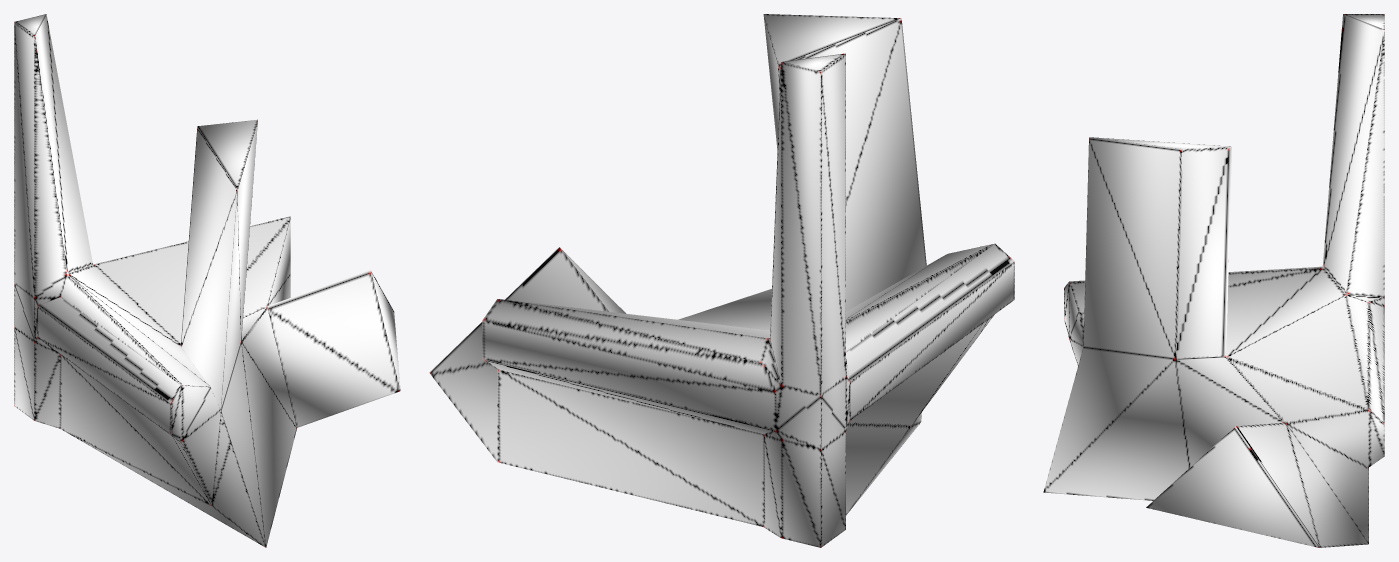
File: building_tower_front2.fbx
3 views of the same model, side by side, from view 1: azimuth 30°, elevation 25°; view 2: azimuth 150°, elevation 25°; view 3: azimuth 270°, elevation 25° (orthographic). The views are drawn at different scales.
Parts seen in each view (by area): view 1: 2; view 2: 2; view 3: 2.
Part boxes in pixels (bbox=[...]): 2: bbox=[14, 14, 400, 547]; 2: bbox=[429, 14, 1014, 547]; 2: bbox=[1043, 14, 1384, 547].
Bounding box in the file's own units: 1.21 × 1.41 × 0.9991.
Materials: 1 (1 with a texture image).
